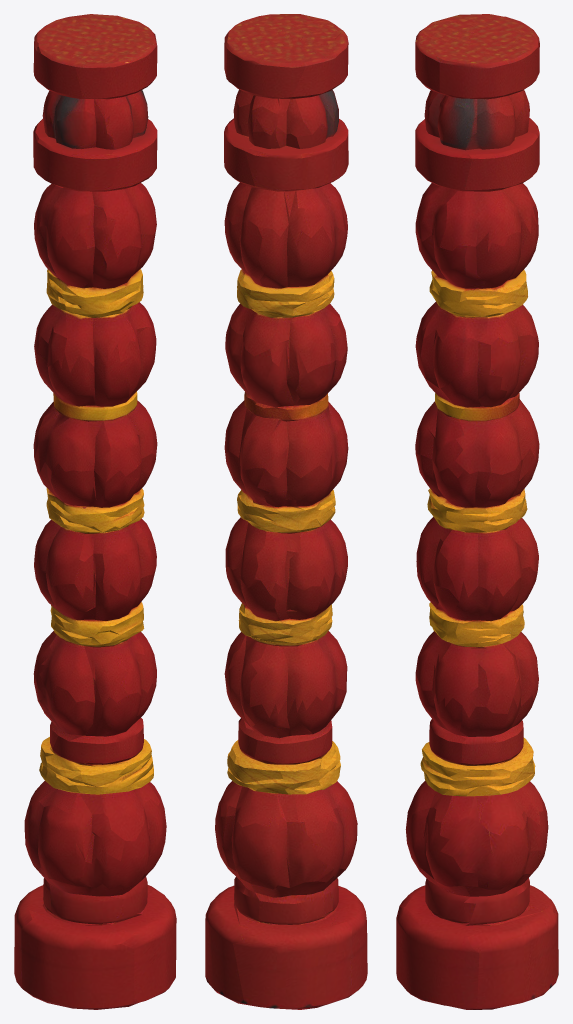
File: jungle-totem.glb
3 views of the same model, side by side, from view 1: azimuth 30°, elevation 25°; view 2: azimuth 150°, elevation 25°; view 3: azimuth 270°, elevation 25° (orthographic).
Visible parts, largest first — view 1: mesh_node; view 2: mesh_node; view 3: mesh_node.
Part boxes in pixels (<box>): mesh_node: <box>14,14,176,1009</box>; mesh_node: <box>205,14,367,1009</box>; mesh_node: <box>396,14,558,1009</box>.
Bounding box in the file's own units: 0.2984 × 1.9 × 0.2985.
1 material, 1 textured.
